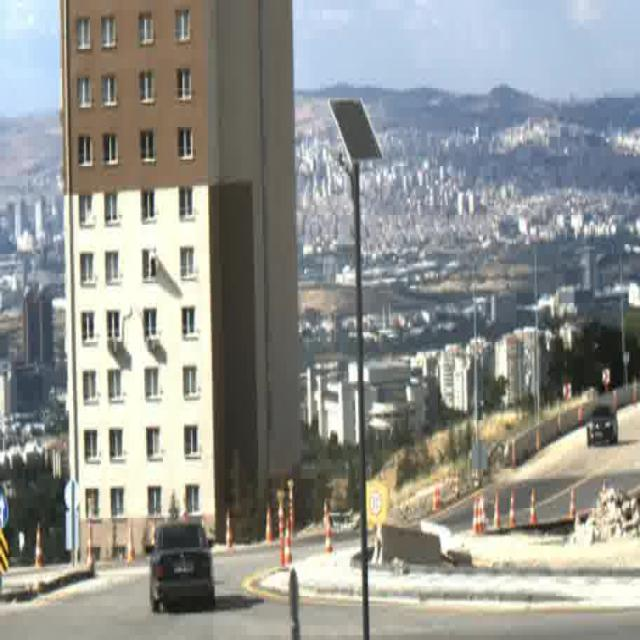Car: (150, 523, 214, 609), (587, 404, 618, 446)
